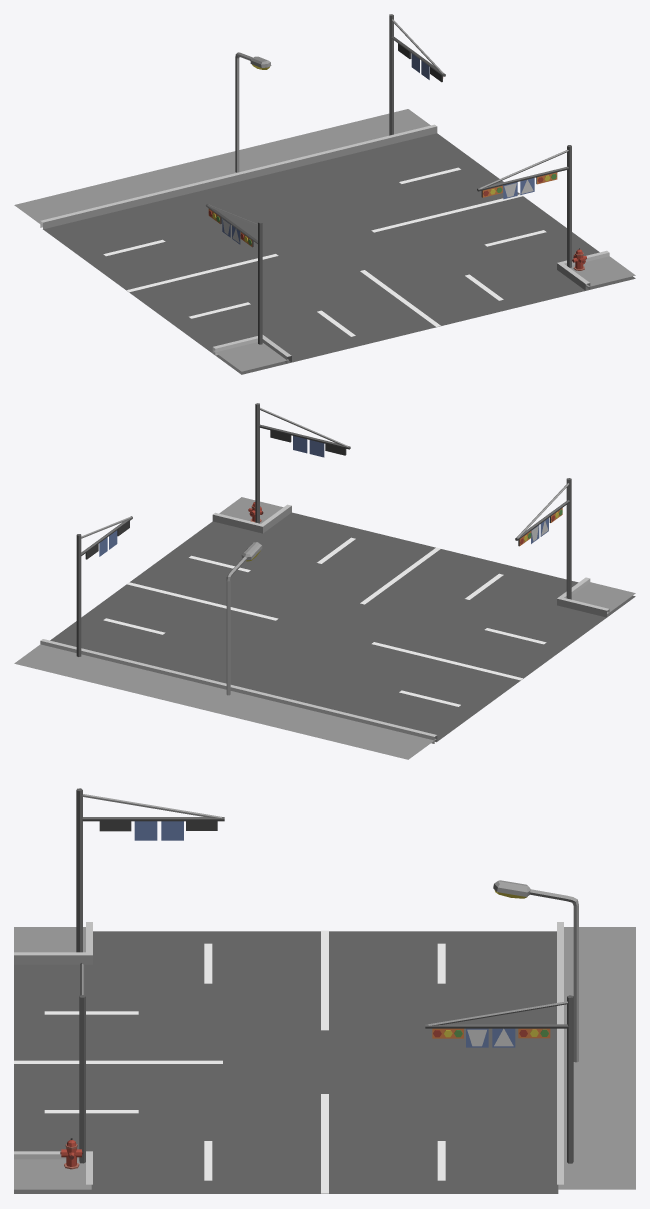
File: road_tile_2x2_002.glb
3 renders of one model, top to bottom at view 1: azimuth 30°, elevation 25°; view 2: azimuth 150°, elevation 25°; view 3: azimuth 270°, elevation 25°, orthographic. The views are drawn at different scales.
Parts seen in each view (by area): view 1: road_tile_2x2_002; view 2: road_tile_2x2_002; view 3: road_tile_2x2_002.
Part boxes in pixels (x1=…): road_tile_2x2_002: x1=14, y1=14, x2=635, y2=374; road_tile_2x2_002: x1=14, y1=403, x2=635, y2=759; road_tile_2x2_002: x1=14, y1=788, x2=635, y2=1193.
Size of the model in its own units: 16 by 5.25 by 16.
1 material, 1 textured.
